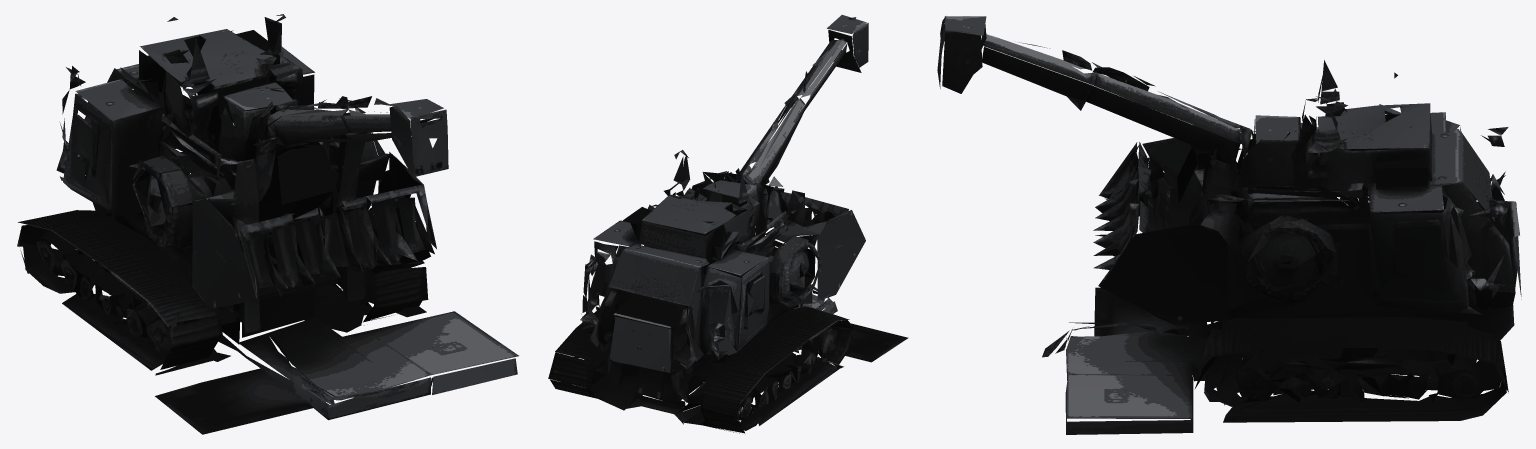
Rendered from reclaimer.glb.
3 renders of one model, left to right at view 1: azimuth 30°, elevation 25°; view 2: azimuth 150°, elevation 25°; view 3: azimuth 270°, elevation 25°, orthographic. The views are drawn at different scales.
Parts seen in each view (by area): view 1: reclaimer; view 2: reclaimer; view 3: reclaimer.
Boxes of the visible parts, left/top/right/bottom form: reclaimer: left=17, top=14, right=518, bottom=434; reclaimer: left=548, top=15, right=908, bottom=433; reclaimer: left=937, top=16, right=1521, bottom=434.
Bounding box in the file's own units: 2.97 × 3.26 × 5.01.
1 material, 1 textured.
